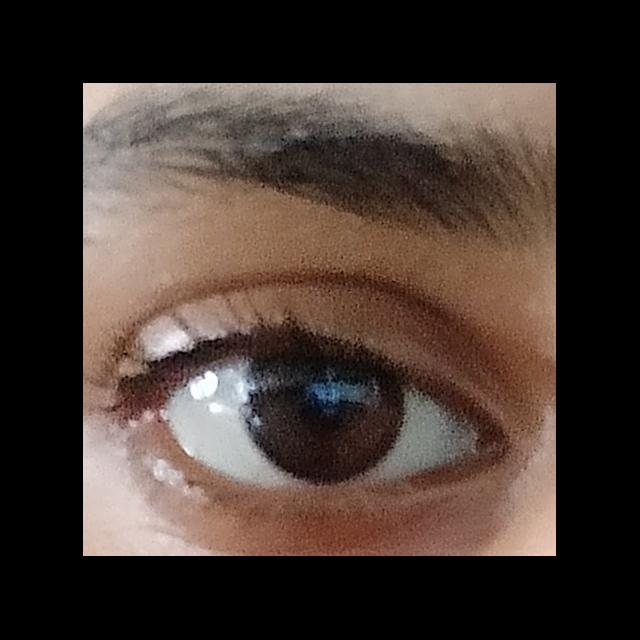eye: (160, 350, 479, 494)
iris: (241, 355, 406, 486)
